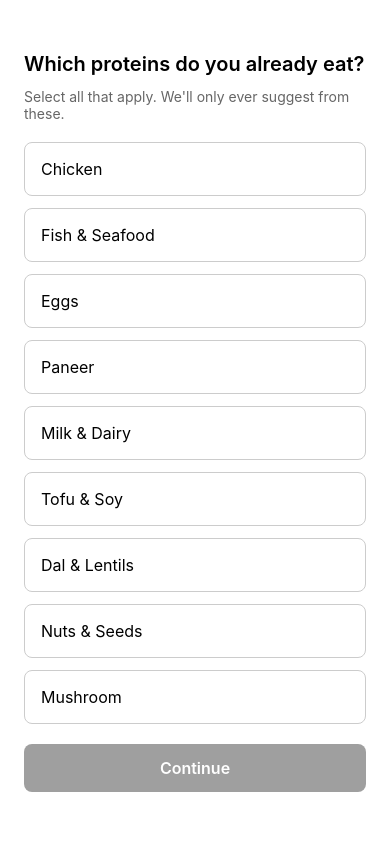
Test: ProteinPreferencesScreen - diet-type filtering › toggling a selected protein again deselects it
Click the element with test id "protein-option-chicken" at (195, 169), box x1=24 y1=142 x2=366 y2=196
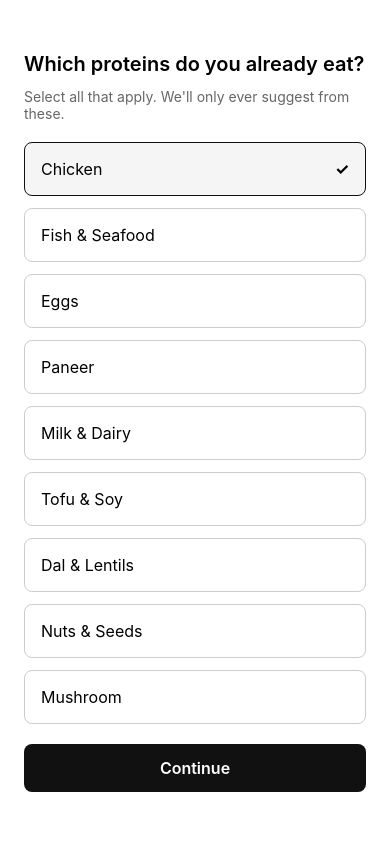
Expected: the element with test id "protein-preferences-continue-button" is enabled, x1=24 y1=744 x2=366 y2=792
Click the element with test id "protein-option-chicken" at (195, 169), box x1=24 y1=142 x2=366 y2=196
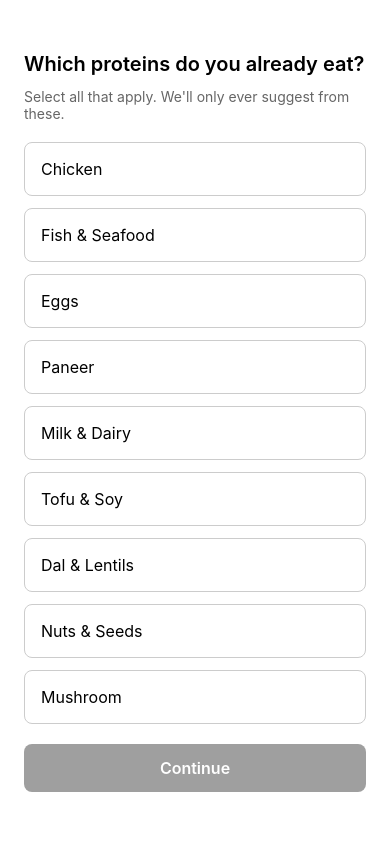
Expected: the element with test id "protein-preferences-continue-button" is disabled, x1=24 y1=744 x2=366 y2=792
